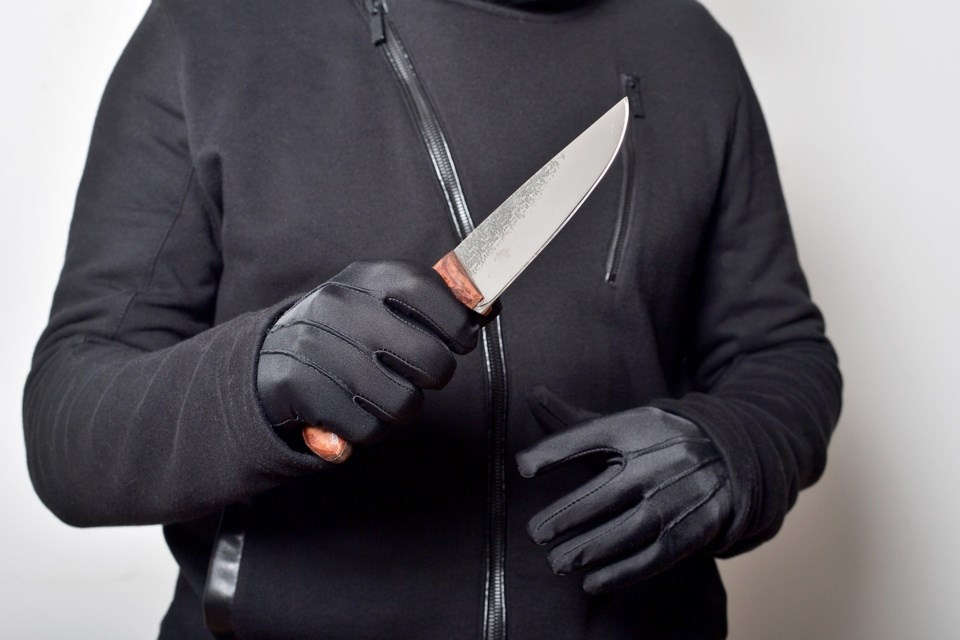knife: (296, 95, 634, 465)
